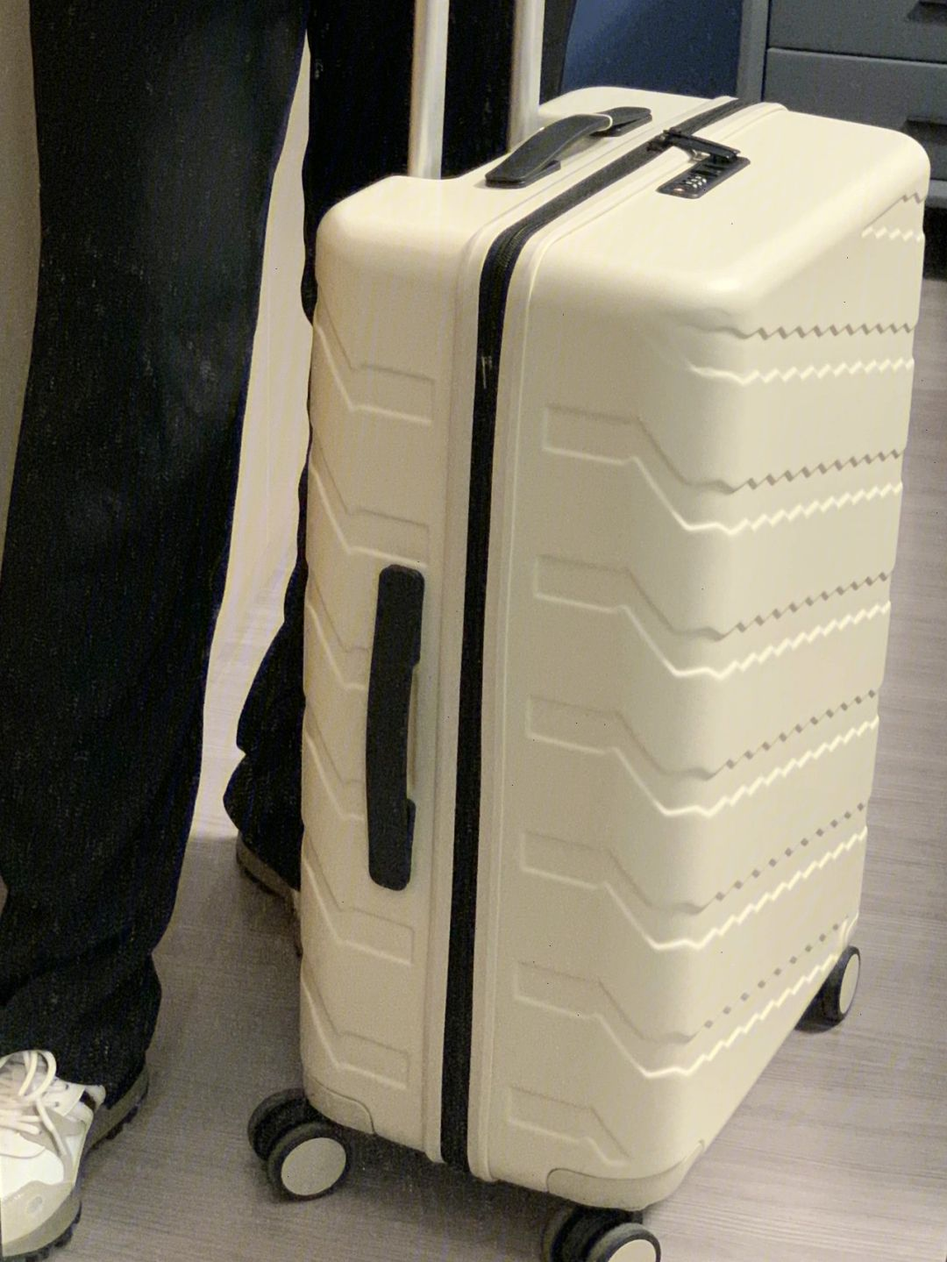box: (302, 83, 931, 1213)
handle: (365, 564, 424, 891), (485, 106, 653, 189)
lock: (655, 149, 751, 199)
wheel: (246, 1086, 352, 1201), (539, 1194, 661, 1262), (804, 946, 863, 1026)
